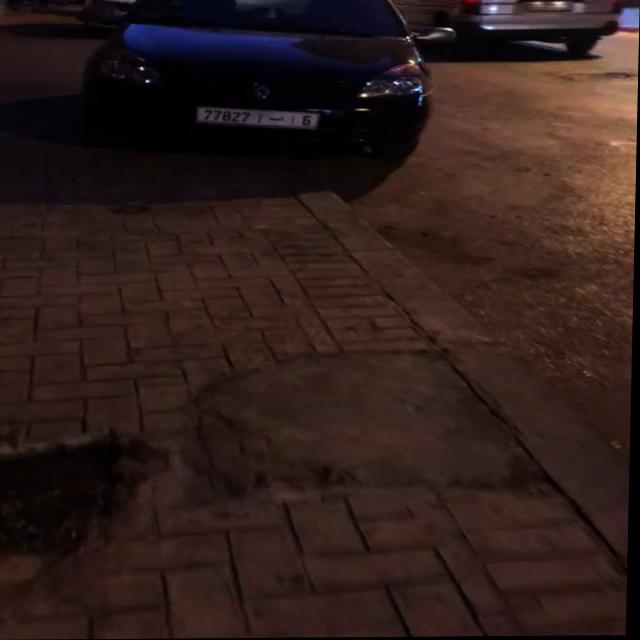License-Plate: (197, 106, 319, 130)
